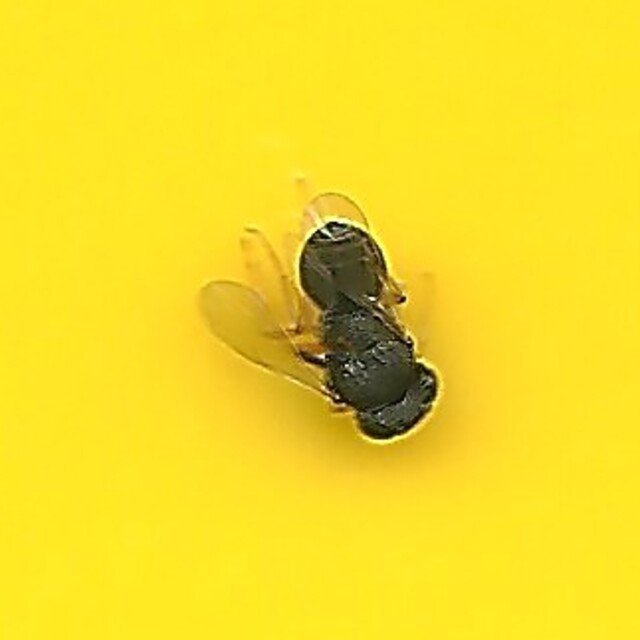Hymenoptera: (198, 193, 442, 447)
